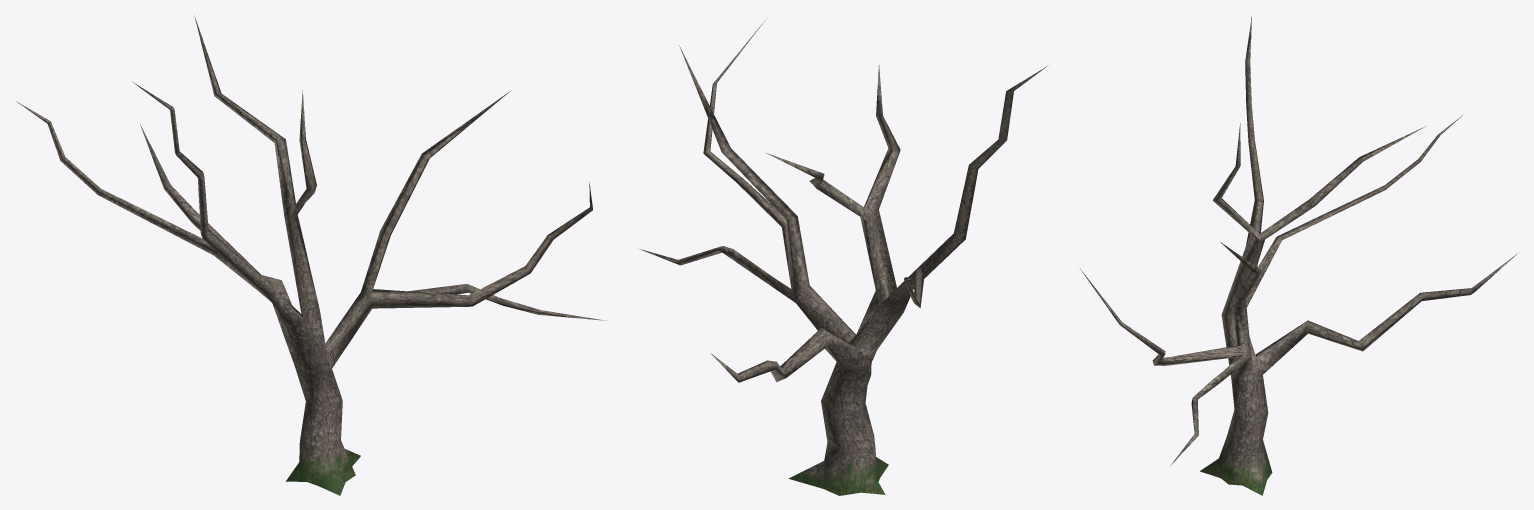
Rendered from dead tree_02.fbx.
The picture shows the model from 3 angles, left to right: view 1: azimuth 30°, elevation 25°; view 2: azimuth 150°, elevation 25°; view 3: azimuth 270°, elevation 25°; orthographic projection. The views are drawn at different scales.
Visible parts, largest first — view 1: polySurface850; view 2: polySurface850; view 3: polySurface850.
Boxes of the visible parts, x1,y1,x2,y2 form: polySurface850: [16, 15, 607, 495]; polySurface850: [639, 18, 1047, 495]; polySurface850: [1080, 16, 1517, 495].
Bounding box in the file's own units: 4.77 × 4.63 × 4.86.
